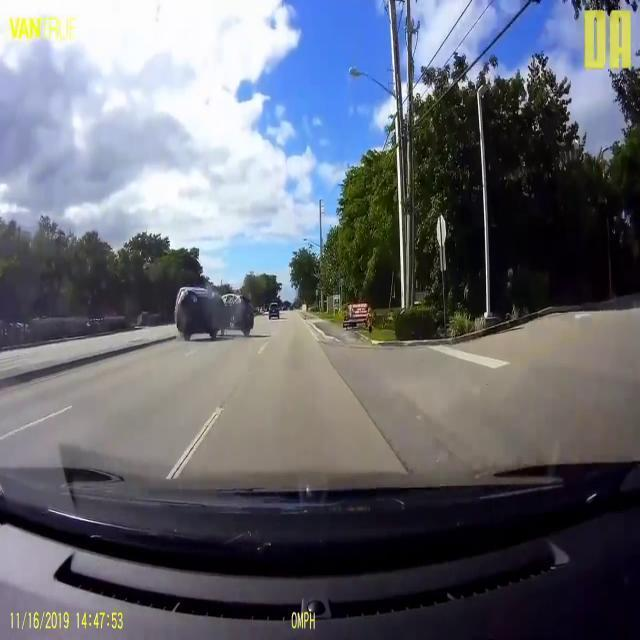accident: (172, 284, 256, 342)
